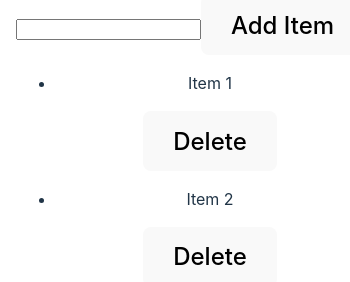
Scenario: List › should remove an item from the list
What coordinates should you click on to do the following:
click the button "Delete" below "Item 1"
I would click on:
 (210, 141)
Its box is top-left (143, 111), bottom-right (277, 171).
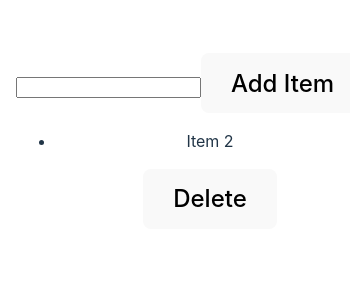
Now the text "Item 1" is gone
